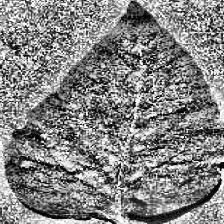spider mites: (2, 2, 224, 216)
